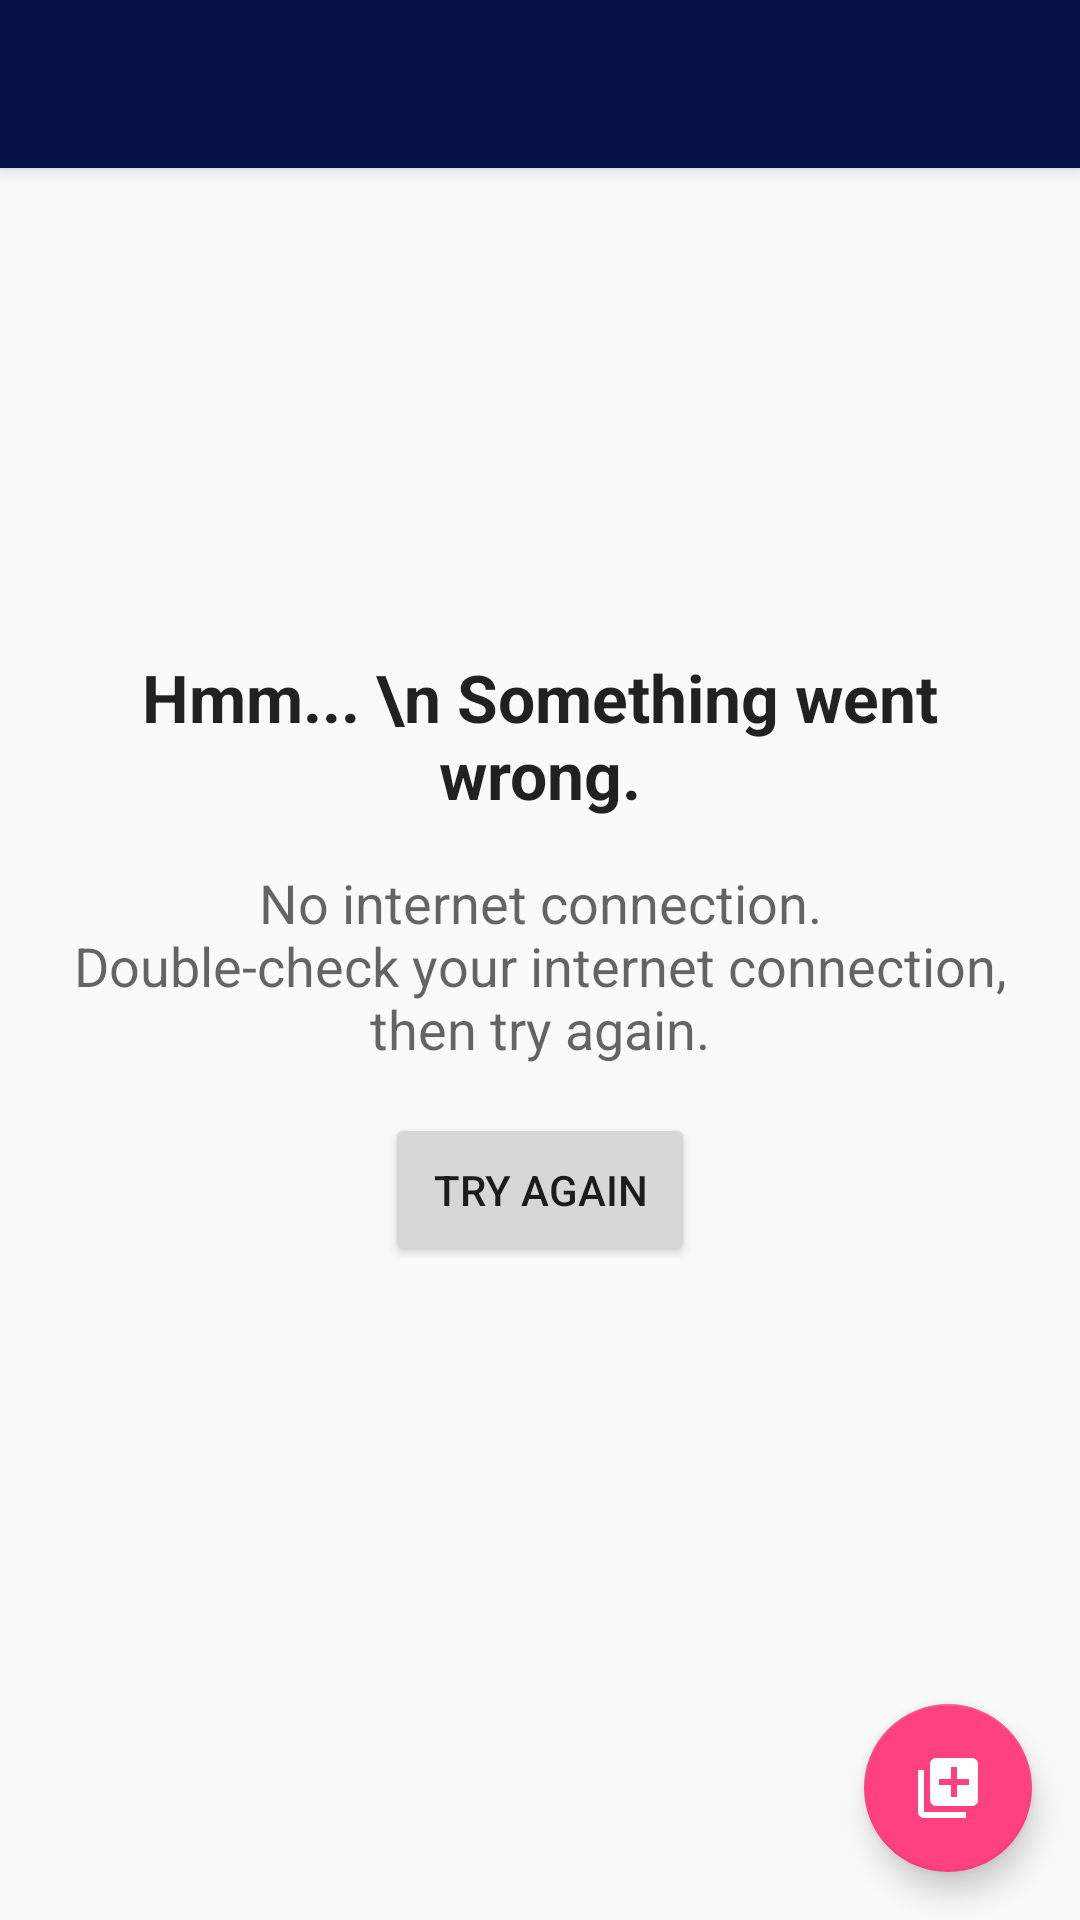

Screen size 1080w x 1920h. Icon name, then its box in pixels as rect(x1, y1, x2, y2):
add fab: rect(864, 1704, 1032, 1872)
